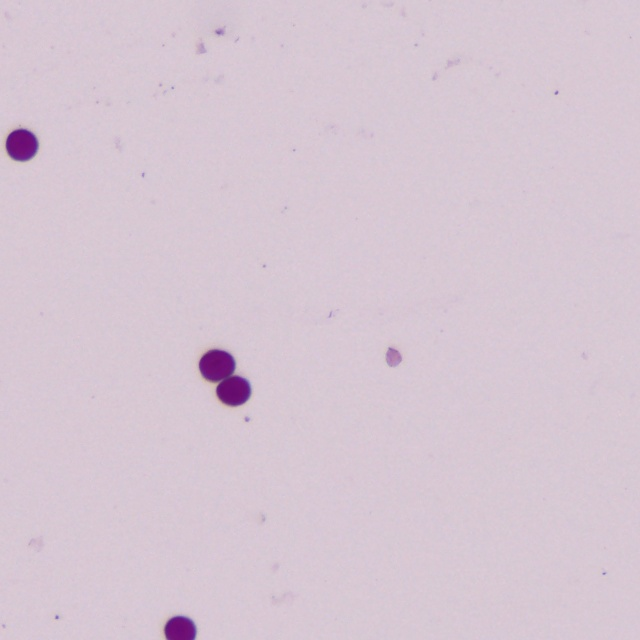viable: (200, 350, 250, 405), (6, 130, 37, 160), (165, 617, 195, 639)
